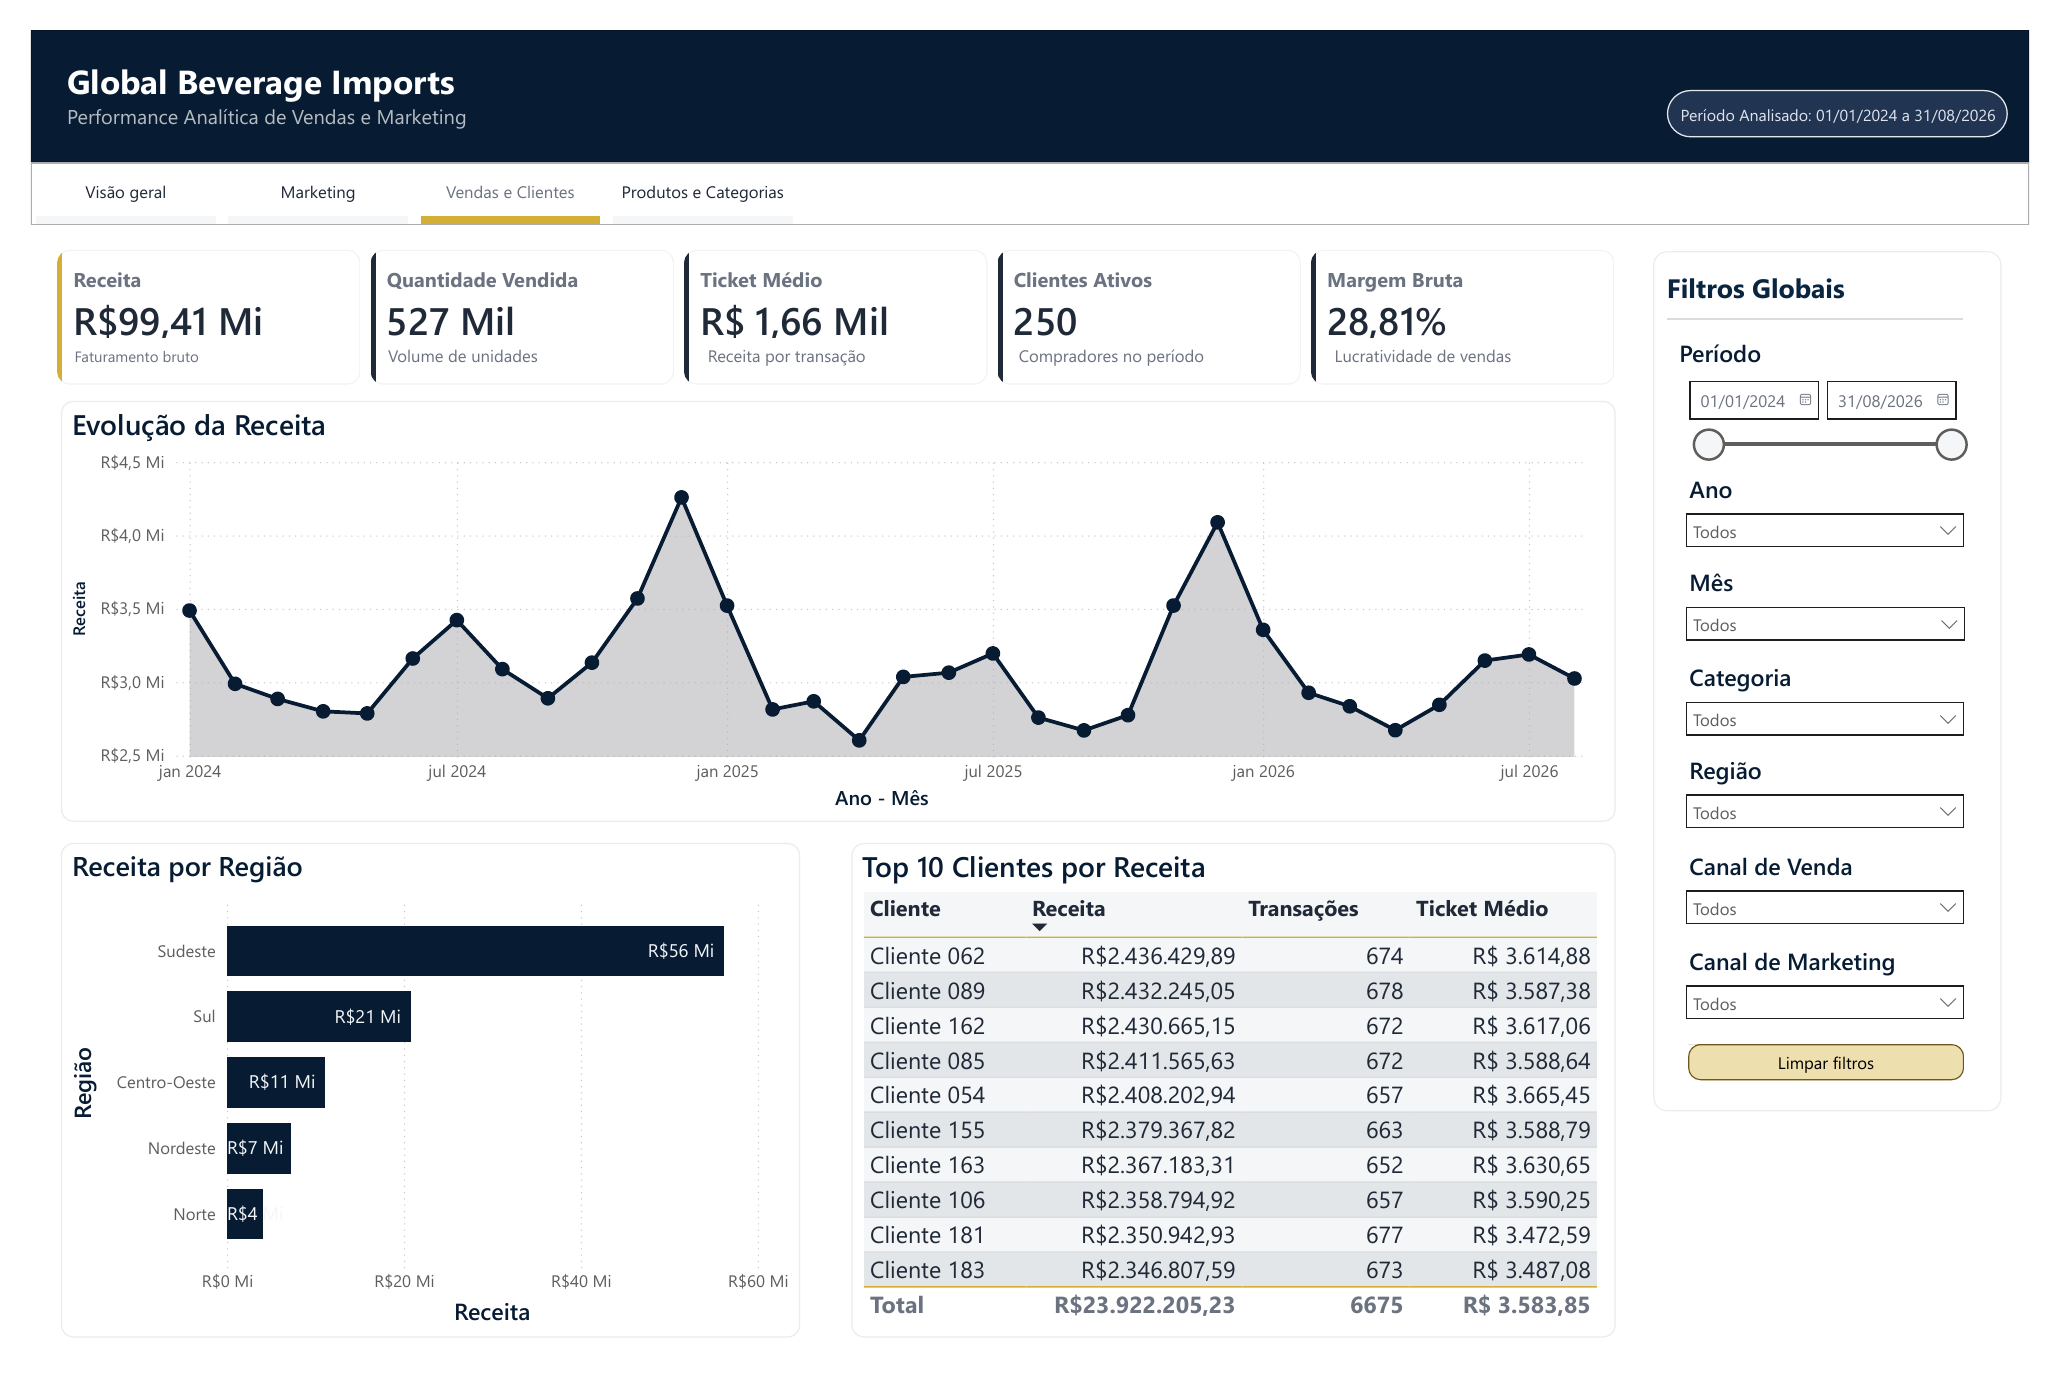

The dashboard page shown, as its layout file describes it:
{"tool":"powerbi","page":{"name":"Vendas e Clientes","canvas":[1600,1070],"ordinal":2},"visuals":[{"type":"group","id":"g1","title":"Grupo 4","box":[0,0,1600,106.2],"z":0,"group":"g2"},{"type":"shape","box":[0,0,1600,106.2],"z":0,"group":"g1"},{"type":"textbox","box":[1315.6,53.4,273.3,32.2],"z":0,"group":"g3"},{"type":"cardVisual","fields":{"Data":["_Medidas.Receita","_Medidas.Quantidade Vendida","_Medidas.Ticket Médio","_Medidas.Clientes Ativos","_Medidas.Margem Bruta"]},"box":[14.3,168.6,1264.3,122.9],"z":0},{"type":"shape","box":[1298.6,176.5,278.8,688.8],"z":0,"group":"g5"},{"type":"group","id":"g2","title":"Grupo 5","box":[0,0,1600,156.2],"z":1000},{"type":"textbox","box":[24.4,17.8,366.7,70],"z":1000,"group":"g1"},{"type":"shape","box":[1310,47.8,273.3,37.8],"z":1000,"group":"g3"},{"type":"shape","box":[0,106.2,1600,50],"z":1000,"group":"g2"},{"type":"slicer","title":"Período","fields":{"Values":["dim_data.Date"]},"box":[1314.8,245.3,243.8,103.8],"z":1000,"group":"g5"},{"type":"group","id":"g3","title":"Grupo 3","box":[1310,47.8,278.9,37.8],"z":2000,"group":"g1"},{"type":"group","id":"g4","title":"Grupo 6","box":[4.2,110.3,606.5,45.3],"z":2000},{"type":"slicer","fields":{"Values":["dim_produto.Category"]},"box":[1314.8,500.3,242.5,73.8],"z":2000,"group":"g5"},{"type":"group","id":"g5","title":"Grupo 2","box":[1298.6,176.5,278.6,688.6],"z":3000},{"type":"slicer","fields":{"Values":["dim_cliente.Region"]},"box":[1314.8,574,242.5,77.5],"z":3000,"group":"g5"},{"type":"pageNavigator","box":[4.2,111.3,606.2,43.8],"z":3001,"group":"g4"},{"type":"pageNavigator","box":[4.2,110.3,606.5,39.4],"z":3501,"group":"g4"},{"type":"textbox","box":[281.4,247.1,220,28.6],"z":4000},{"type":"slicer","fields":{"Values":["dim_canal_vendas.Sales_Channel"]},"box":[1314.8,651.5,242.5,76.2],"z":4000,"group":"g5"},{"type":"textbox","box":[1304.8,186.5,210,41.2],"z":5000,"group":"g5"},{"type":"textbox","box":[30,247.1,220,28.6],"z":5000},{"type":"shape","box":[1309.8,214,236.2,33.8],"z":6000,"group":"g5"},{"type":"textbox","box":[537.1,247.1,220,28.6],"z":6000},{"type":"textbox","box":[785.7,247.1,220,28.6],"z":7000},{"type":"slicer","title":"Período","fields":{"Values":["dim_data.Year"]},"box":[1314.8,349,242.5,75],"z":7000,"group":"g5"},{"type":"textbox","box":[1038.6,247.1,220,28.6],"z":8000},{"type":"slicer","title":"Período","fields":{"Values":["dim_data.Month"]},"box":[1314.8,424,243.8,75],"z":8000,"group":"g5"},{"type":"tableEx","title":"Top 10 Clientes por Receita","fields":{"Values":["dim_cliente.Customer","_Medidas.Receita","_Medidas.Transações","_Medidas.Ticket Médio"]},"box":[657.1,651.4,611.4,395.7],"z":9000},{"type":"slicer","fields":{"Values":["dim_canal_marketing.Marketing_Channel"]},"box":[1314.8,727.7,242.5,83.8],"z":9000,"group":"g5"},{"type":"lineChart","title":"Evolução da Receita","fields":{"Y":["_Medidas.Receita"],"Category":["dim_data.Year_Month"]},"box":[24.3,297.1,1244.3,337.1],"z":10000},{"type":"actionButton","box":[1326.1,811.5,221.2,28.8],"z":10000,"group":"g5"},{"type":"barChart","title":"Receita por Região","fields":{"Y":["_Medidas.Receita"],"Category":["dim_cliente.Region"]},"box":[24.3,651.4,591.4,395.7],"z":11000}]}

Visuals, with their boxes in screenshot pixels (x1, y1, x2, y2), scaled from the page's 1600x1070 canvas onto the 2060x1397 screenshot:
"Grupo 4" group: 0:0:2059:139
shape: 0:0:2059:139
textbox: 1694:70:2046:112
cardVisual - _Medidas.Receita x _Medidas.Quantidade Vendida: 18:220:1646:381
shape: 1672:230:2031:1130
"Grupo 5" group: 0:0:2059:204
textbox: 31:23:504:115
shape: 1687:62:2038:112
shape: 0:139:2059:204
"Período" slicer: 1693:320:2007:456
"Grupo 3" group: 1687:62:2046:112
"Grupo 6" group: 5:144:786:203
slicer - dim_produto.Category: 1693:653:2005:750
"Grupo 2" group: 1672:230:2031:1129
slicer - dim_cliente.Region: 1693:749:2005:851
pageNavigator: 5:145:786:202
pageNavigator: 5:144:786:195
textbox: 362:323:646:360
slicer - dim_canal_vendas.Sales_Channel: 1693:851:2005:950
textbox: 1680:243:1950:297
textbox: 39:323:322:360
shape: 1686:279:1990:324
textbox: 692:323:975:360
textbox: 1012:323:1295:360
"Período" slicer: 1693:456:2005:554
textbox: 1337:323:1620:360
"Período" slicer: 1693:554:2007:651
"Top 10 Clientes por Receita" tableEx: 846:850:1633:1367
slicer - dim_canal_marketing.Marketing_Channel: 1693:950:2005:1060
"Evolução da Receita" lineChart: 31:388:1633:828
actionButton: 1707:1060:1992:1097
"Receita por Região" barChart: 31:850:793:1367
